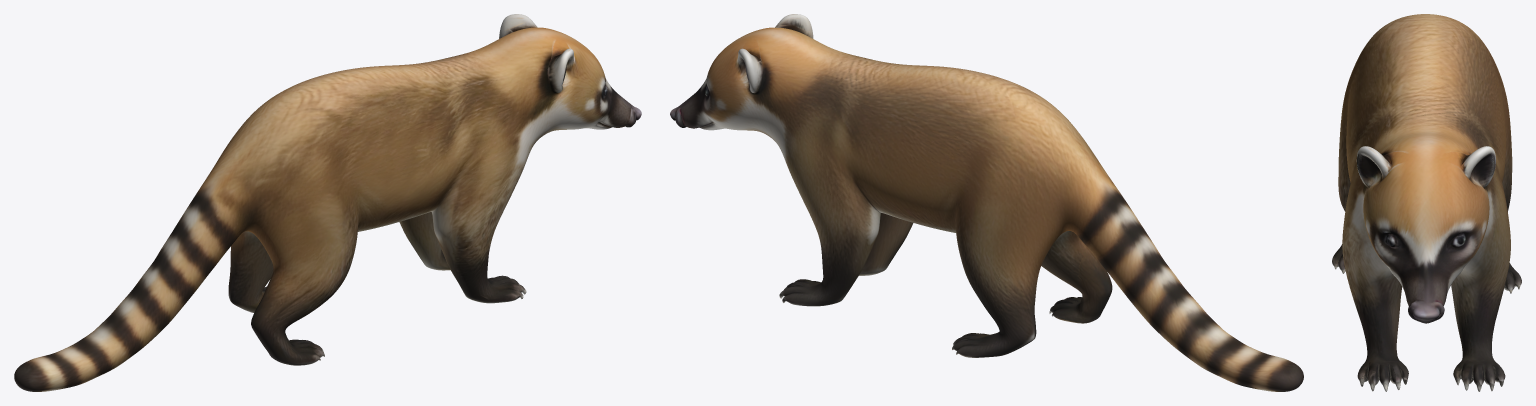
Rendered from Cucucho.fbx.
3 renders of one model, left to right at view 1: azimuth 30°, elevation 25°; view 2: azimuth 150°, elevation 25°; view 3: azimuth 270°, elevation 25°, orthographic. The views are drawn at different scales.
Parts seen in each view (by area): view 1: Mesh_0; view 2: Mesh_0; view 3: Mesh_0.
Part boxes in pixels (left/top/right/bottom): Mesh_0: left=14, top=14, right=641, bottom=391; Mesh_0: left=670, top=14, right=1303, bottom=391; Mesh_0: left=1332, top=14, right=1521, bottom=391.
Bounding box in the file's own units: 200 × 74.31 × 46.39.
Materials: 1 (1 with a texture image).
